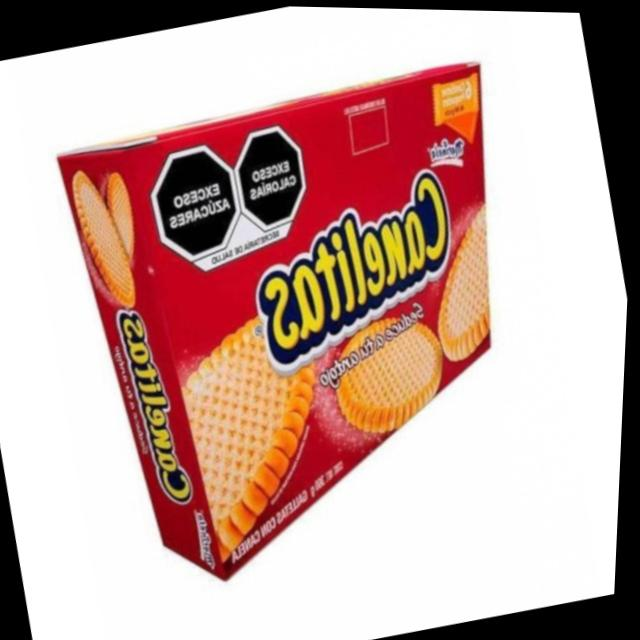Caja: (22, 24, 592, 621)
